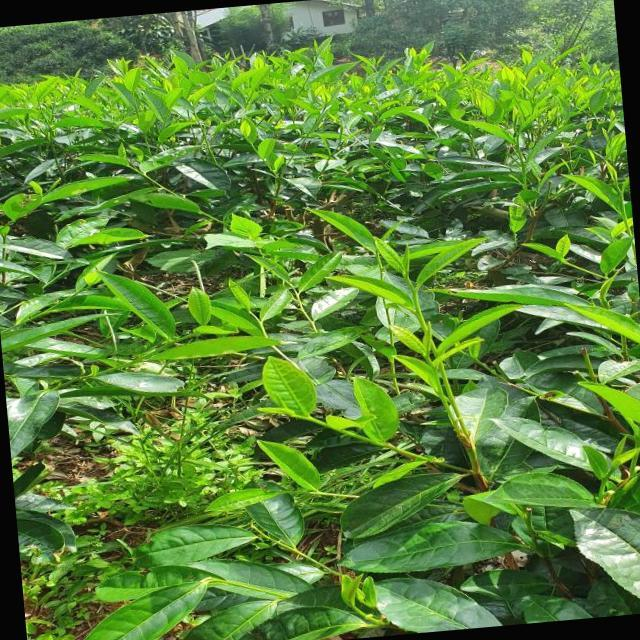Stem: (404, 275, 410, 281), (259, 322, 263, 326), (376, 253, 379, 257), (296, 293, 300, 296)
